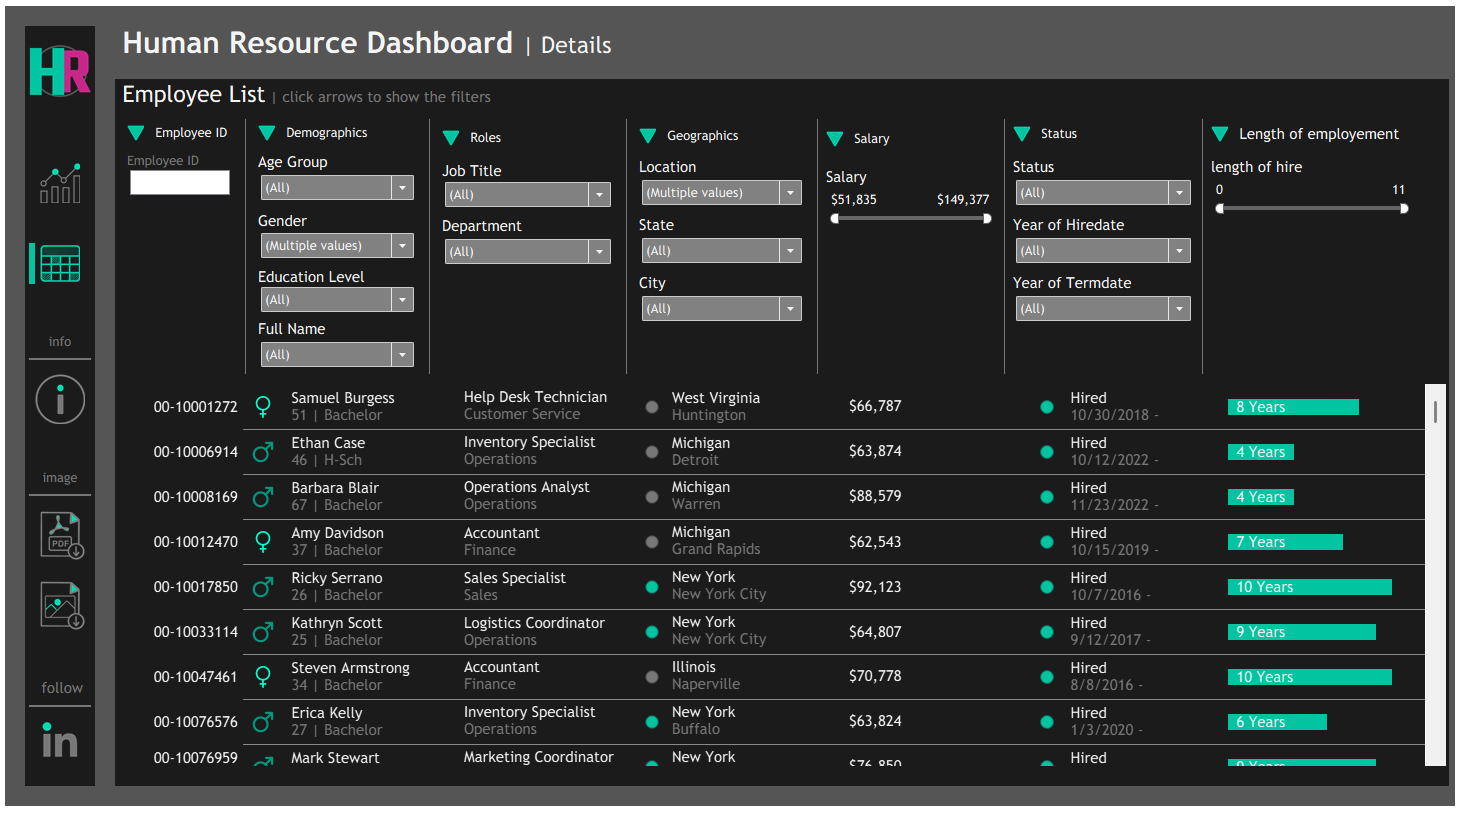

The page's visual inventory and layout, read from the dashboard file:
{"tool":"tableau","page":{"name":"HR | Detail","canvas":[1450,800],"ordinal":0},"visuals":[{"type":"text","box":[110,0,703,73]},{"type":"blank","box":[813,0,631,73]},{"type":"image","param":"Image/Logo.png","box":[20,20,70,90]},{"type":"text","box":[110,73,1334,30]},{"type":"blank","box":[240,103,1,275]},{"type":"blank","box":[424,103,1,275]},{"type":"blank","box":[621,103,1,275]},{"type":"blank","box":[812,103,1,275]},{"type":"blank","box":[999.1,103,1,275]},{"type":"blank","box":[1197,103,1,275]},{"type":"dashboard-object","box":[817,107,25,51]},{"type":"text","box":[842,107,153,51]},{"type":"dashboard-object","box":[1004.1,107,25,41]},{"type":"text","box":[1029.1,107,164,41]},{"type":"dashboard-object","box":[1202,107,25,41]},{"type":"text","box":[1227,107,185,41]},{"type":"blank","box":[20,110,70,32]},{"type":"dashboard-object","box":[118,111,25,32]},{"type":"text","box":[143,111,89,32]},{"type":"dashboard-object","box":[249,111,25,32]},{"type":"text","box":[274,111,142,32]},{"type":"dashboard-object","box":[433,111,25,41]},{"type":"text","box":[458,111,155,41]},{"type":"dashboard-object","box":[630,111,25,37]},{"type":"text","box":[655,111,149,37]},{"type":"dashboard-object","box":[20,142,70,70]},{"type":"filter","title":"Details","param":"[federated.08zalkq08hlpd0129zfwl0y4c90q].[none:Employee_ID:nk]","box":[118,143,114,53]},{"type":"filter","title":"Details","param":"[federated.08zalkq08hlpd0129zfwl0y4c90q].[none:Calculation_0702319447371780:nk]","box":[249,143,167,59]},{"type":"filter","title":"Details","param":"[federated.08zalkq08hlpd0129zfwl0y4c90q].[none:Calculation_0608585873780740:nk]","box":[630,148,174,58]},{"type":"filter","title":"Details","param":"[federated.08zalkq08hlpd0129zfwl0y4c90q].[none:Calculation_0495336813854720:nk]","box":[1004.1,148,189,58]},{"type":"filter","title":"Details","param":"[federated.08zalkq08hlpd0129zfwl0y4c90q].[sum:Calculation_0507432963457024:qk]","box":[1202,148,210,70]},{"type":"filter","title":"Details","param":"[federated.08zalkq08hlpd0129zfwl0y4c90q].[none:Job Title:nk]","box":[433,152,180,55]},{"type":"filter","title":"Details","param":"[federated.08zalkq08hlpd0129zfwl0y4c90q].[sum:Salary:qk]","box":[817,158,178,70]},{"type":"filter","title":"Details","param":"[federated.08zalkq08hlpd0129zfwl0y4c90q].[none:Gender:nk]","box":[249,202,167,56]},{"type":"filter","title":"Details","param":"[federated.08zalkq08hlpd0129zfwl0y4c90q].[none:State:nk]","box":[630,206,174,58]},{"type":"filter","title":"Details","param":"[federated.08zalkq08hlpd0129zfwl0y4c90q].[yr:Hiredate:ok]","box":[1004.1,206,189,58]},{"type":"filter","title":"Details","param":"[federated.08zalkq08hlpd0129zfwl0y4c90q].[none:Department:nk]","box":[433,207,180,58]},{"type":"blank","box":[20,212,70,10]},{"type":"dashboard-object","box":[20,222,70,70]},{"type":"filter","title":"Details","param":"[federated.08zalkq08hlpd0129zfwl0y4c90q].[none:Education Level:nk]","box":[249,258,167,52]},{"type":"filter","title":"Details","param":"[federated.08zalkq08hlpd0129zfwl0y4c90q].[none:City:nk]","box":[630,264,174,58]},{"type":"filter","title":"Details","param":"[federated.08zalkq08hlpd0129zfwl0y4c90q].[yr:Termdate:ok]","box":[1004.1,264,189,58]},{"type":"text","box":[101,266,1336,401]},{"type":"blank","box":[20,292,70,32]},{"type":"filter","title":"Details","param":"[federated.08zalkq08hlpd0129zfwl0y4c90q].[none:Calculation_0442286888087554:nk]","box":[249,310,167,58]},{"type":"text","box":[20,324,70,24]},{"type":"blank","box":[20,348,70,10]},{"type":"dashboard-object","box":[20,358,70,70]},{"type":"worksheet","title":"Details","mark":"Shape","rows":["Employee_ID"],"cols":["Calculation_0442286887170049","Calculation_0442286887170049","Calculation_0442286887170049","Calculation_0442286887170049","Calculation_0442286887170049","Calculation_0507432963457024"],"box":[110,378,1334,402]},{"type":"blank","box":[20,428,70,32]},{"type":"text","box":[20,460,70,24]},{"type":"blank","box":[20,484,70,10]},{"type":"dashboard-object","box":[20,494,70,70]},{"type":"dashboard-object","box":[20,564,70,70]},{"type":"blank","box":[20,634,70,35]},{"type":"text","box":[20,669,70,26]},{"type":"blank","box":[20,695,70,10]},{"type":"image","param":"Image/contact-linkedin.png","box":[20,705,70,57]}]}

Visuals, with their boxes on the page's 1450x800 design canvas (x1, y1, x2, y2). These are canvas units, not pixel positions in the 1464x815 screenshot, which may show the page scaled, cropped or inside an application window:
text: [110,0,813,73]
blank: [813,0,1444,73]
image: [20,20,90,110]
text: [110,73,1444,103]
blank: [240,103,241,378]
blank: [424,103,425,378]
blank: [621,103,622,378]
blank: [812,103,813,378]
blank: [999,103,1000,378]
blank: [1197,103,1198,378]
dashboard-object: [817,107,842,158]
text: [842,107,995,158]
dashboard-object: [1004,107,1029,148]
text: [1029,107,1193,148]
dashboard-object: [1202,107,1227,148]
text: [1227,107,1412,148]
blank: [20,110,90,142]
dashboard-object: [118,111,143,143]
text: [143,111,232,143]
dashboard-object: [249,111,274,143]
text: [274,111,416,143]
dashboard-object: [433,111,458,152]
text: [458,111,613,152]
dashboard-object: [630,111,655,148]
text: [655,111,804,148]
dashboard-object: [20,142,90,212]
"Details" filter: [118,143,232,196]
"Details" filter: [249,143,416,202]
"Details" filter: [630,148,804,206]
"Details" filter: [1004,148,1193,206]
"Details" filter: [1202,148,1412,218]
"Details" filter: [433,152,613,207]
"Details" filter: [817,158,995,228]
"Details" filter: [249,202,416,258]
"Details" filter: [630,206,804,264]
"Details" filter: [1004,206,1193,264]
"Details" filter: [433,207,613,265]
blank: [20,212,90,222]
dashboard-object: [20,222,90,292]
"Details" filter: [249,258,416,310]
"Details" filter: [630,264,804,322]
"Details" filter: [1004,264,1193,322]
text: [101,266,1437,667]
blank: [20,292,90,324]
"Details" filter: [249,310,416,368]
text: [20,324,90,348]
blank: [20,348,90,358]
dashboard-object: [20,358,90,428]
"Details" worksheet (Shape marks): [110,378,1444,780]
blank: [20,428,90,460]
text: [20,460,90,484]
blank: [20,484,90,494]
dashboard-object: [20,494,90,564]
dashboard-object: [20,564,90,634]
blank: [20,634,90,669]
text: [20,669,90,695]
blank: [20,695,90,705]
image: [20,705,90,762]
